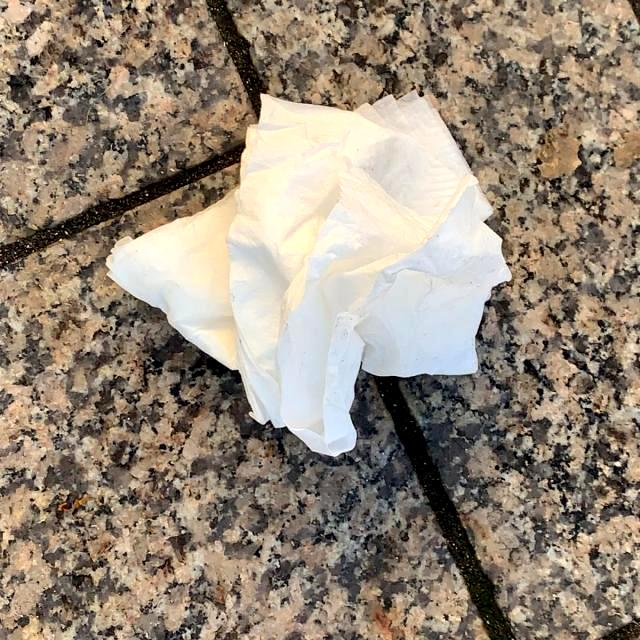Paper: (104, 86, 516, 460)
